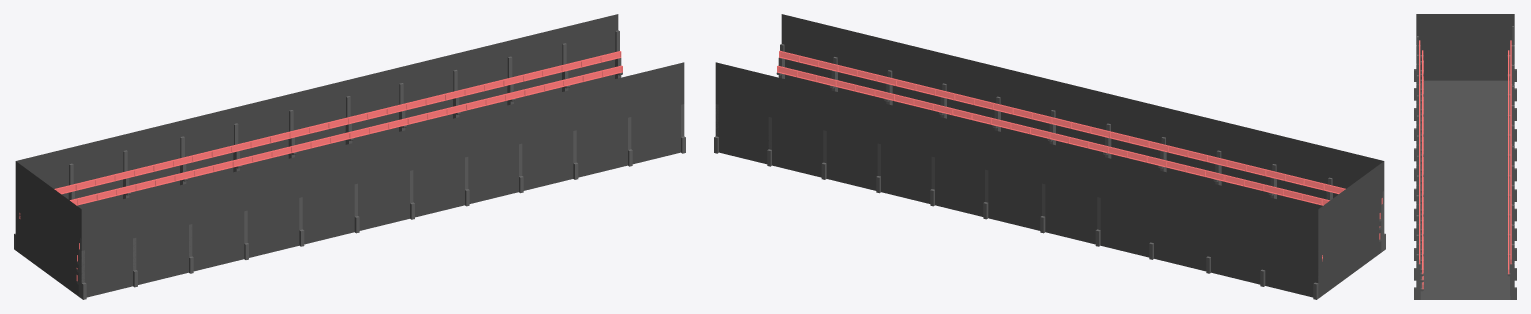
Rendered from 5p_2bay.glb.
The picture shows the model from 3 angles, left to right: view 1: azimuth 30°, elevation 25°; view 2: azimuth 150°, elevation 25°; view 3: azimuth 270°, elevation 25°; orthographic projection. The views are drawn at different scales.
Visible parts, largest first — view 1: 5P_2Bay, 5P_2Bay_Rail015, 5P_2Bay_Pillar007; view 2: 5P_2Bay, 5P_2Bay_Rail015, 5P_2Bay_Pillar007; view 3: 5P_2Bay, 5P_2Bay_Pillar007, 5P_2Bay_Rail015.
Part boxes in pixels (x1,y1,x2,y2): 5P_2Bay: (15,14,684,297); 5P_2Bay_Rail015: (19,51,622,281); 5P_2Bay_Pillar007: (14,30,685,299); 5P_2Bay: (715,14,1384,298); 5P_2Bay_Rail015: (777,50,1382,261); 5P_2Bay_Pillar007: (714,44,1385,299); 5P_2Bay: (1416,14,1514,299); 5P_2Bay_Pillar007: (1414,26,1516,299); 5P_2Bay_Rail015: (1419,40,1511,289).
Size of the model in its own units: 255 by 36.17 by 50.58.
